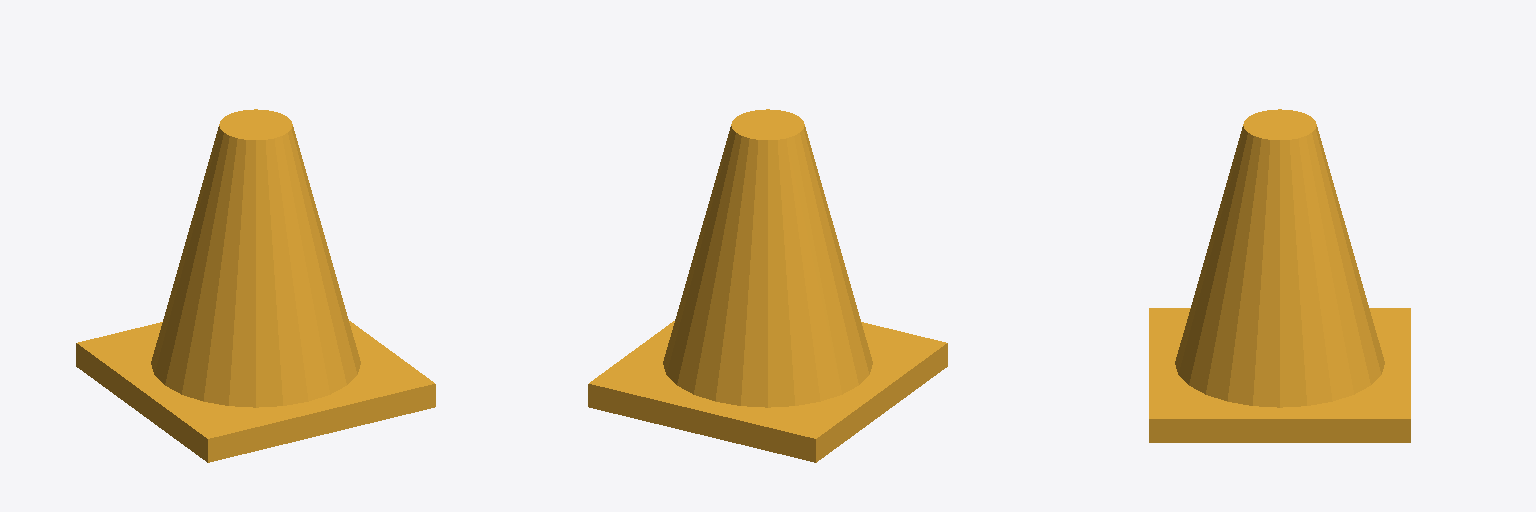
File: pylon.obj
The picture shows the model from 3 angles: view 1: azimuth 30°, elevation 25°; view 2: azimuth 150°, elevation 25°; view 3: azimuth 270°, elevation 25°; orthographic projection.
Visible parts, largest first — view 1: pylon; view 2: pylon; view 3: pylon.
Part boxes in pixels (x1,y1,x2,y2): pylon: (76,109,435,462); pylon: (588,109,947,462); pylon: (1149,109,1410,442).
Size of the model in its own units: 0.12 by 0.132 by 0.12.